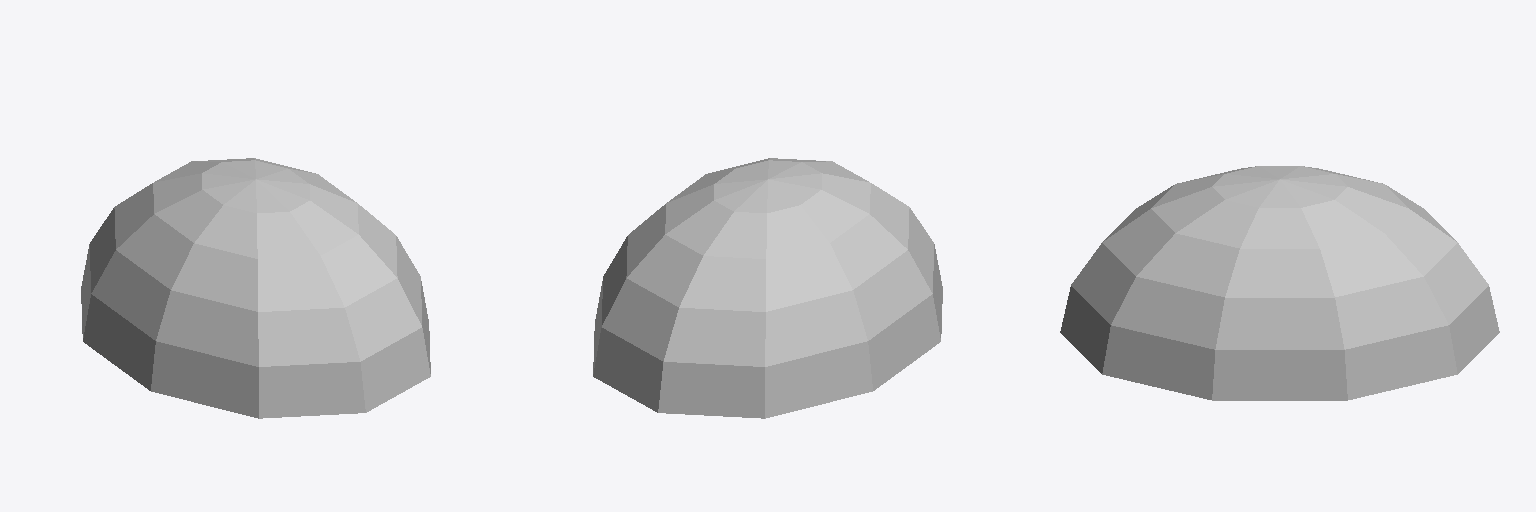
The model's file is eyeball.obj.
3 renders of one model, left to right at view 1: azimuth 30°, elevation 25°; view 2: azimuth 150°, elevation 25°; view 3: azimuth 270°, elevation 25°, orthographic.
Visible parts, largest first — view 1: Eyeball; view 2: Eyeball; view 3: Eyeball.
Boxes of the visible parts, x1,y1,x2,y2 form: Eyeball: [81, 158, 430, 418]; Eyeball: [593, 158, 942, 418]; Eyeball: [1060, 166, 1499, 400].
Bounding box in the file's own units: 14.27 × 7.5 × 19.5.